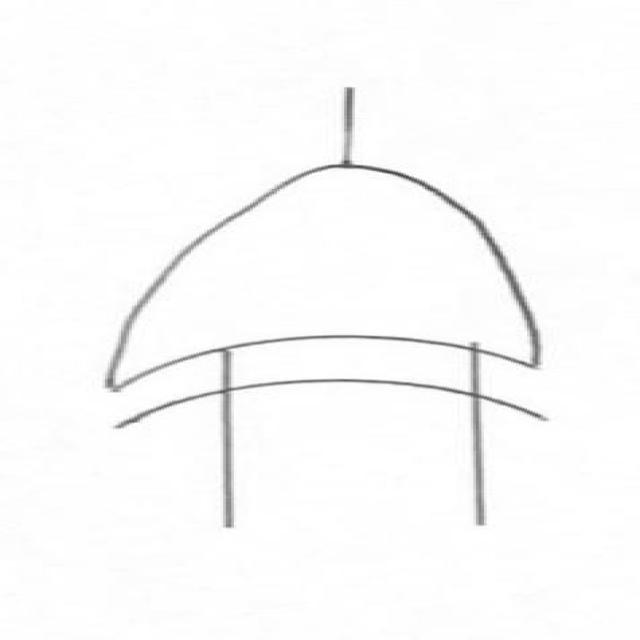XOR: (48, 149, 620, 434)
